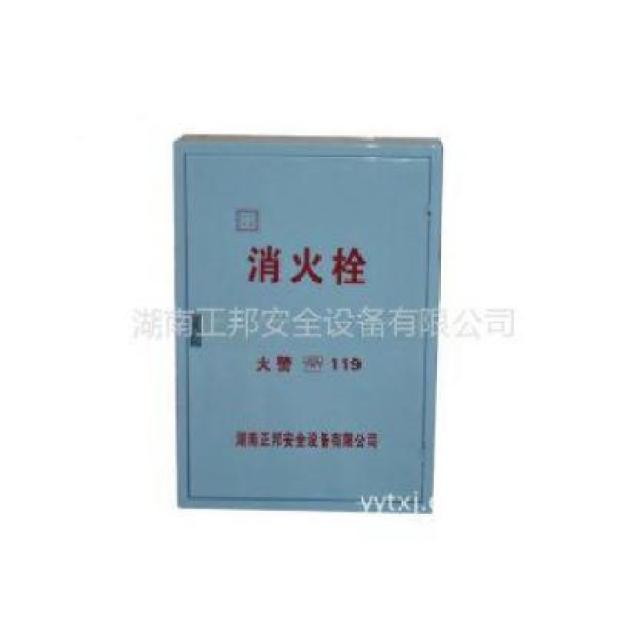firehydrant: (168, 126, 449, 521)
